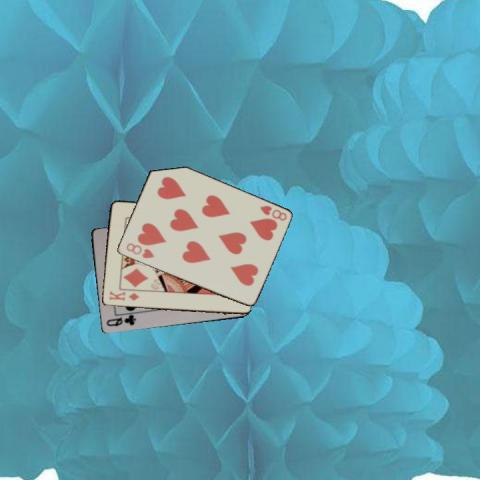8h: (123, 240, 155, 260), (257, 202, 288, 222)
Kd: (106, 288, 140, 303)
Qc: (104, 313, 138, 328)
